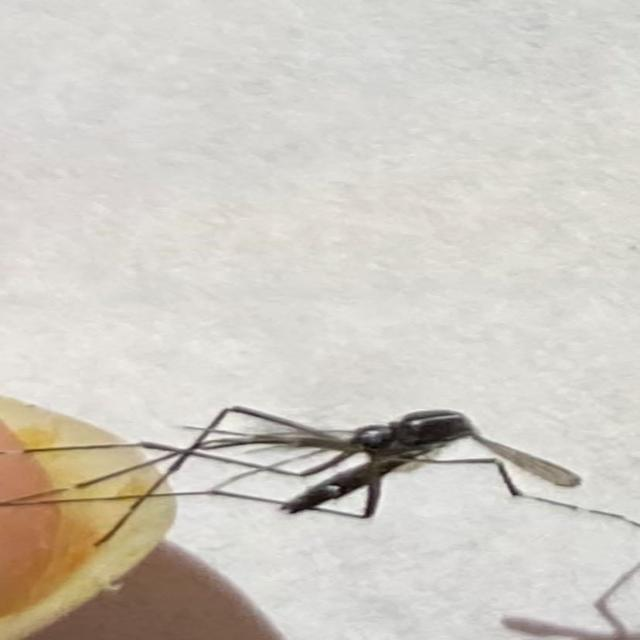albopictus: (11, 384, 601, 564)
